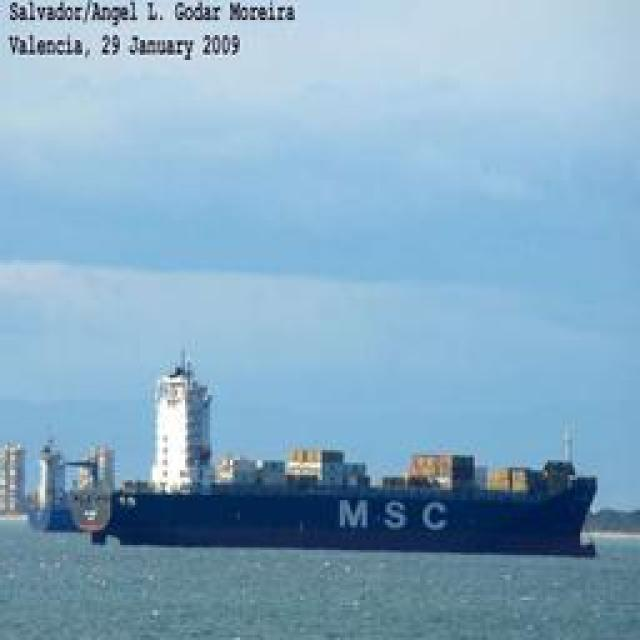Ship: (30, 434, 600, 547)
